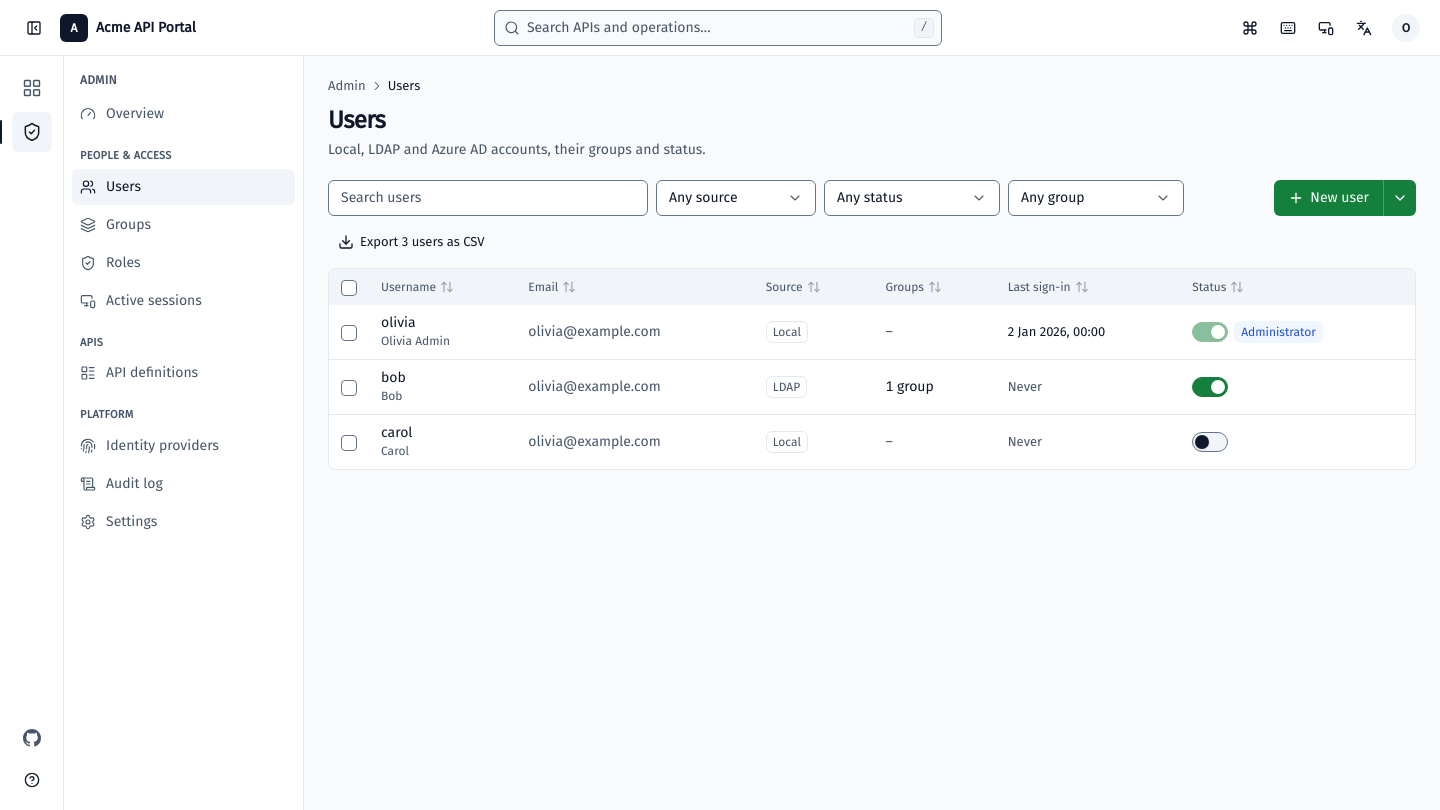
Test: users › flips the active switch at once and back when the server refuses
Click the switch named "bob is active". click: {"x": 1210, "y": 386}
box: [1192,376,1228,396]
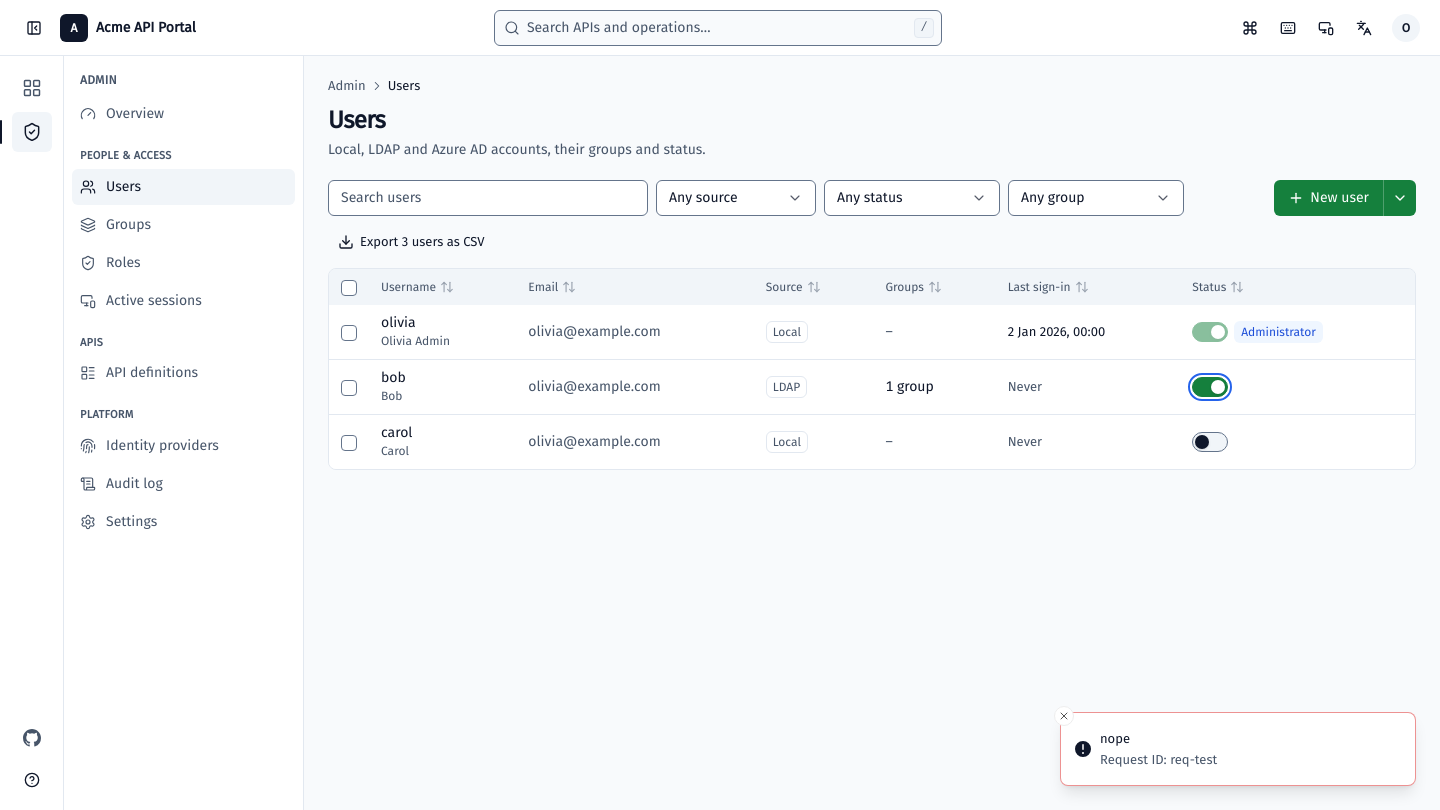
expect the text "nope" is shown: met, box [1100,731,1130,746]
